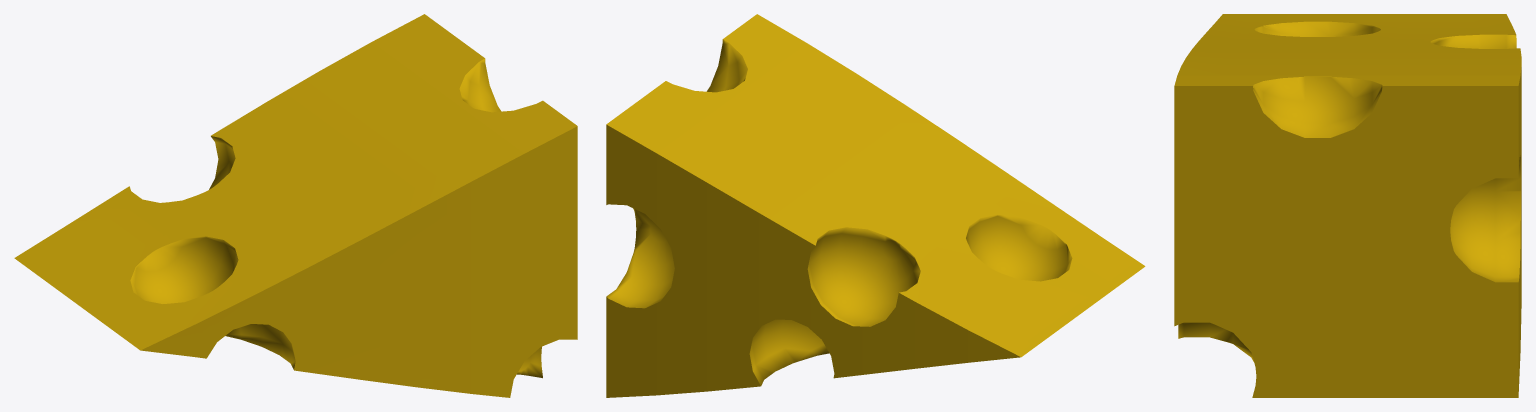
Rendered from cheese_1.fbx.
3 renders of one model, left to right at view 1: azimuth 30°, elevation 25°; view 2: azimuth 150°, elevation 25°; view 3: azimuth 270°, elevation 25°, orthographic. The views are drawn at different scales.
Parts seen in each view (by area): view 1: Cube.002; view 2: Cube.002; view 3: Cube.002.
Boxes of the visible parts, x1=… form: Cube.002: x1=14, y1=14, x2=577, y2=397; Cube.002: x1=606, y1=14, x2=1145, y2=397; Cube.002: x1=1174, y1=14, x2=1521, y2=397.
Size of the model in its own units: 5066 by 3231 by 3260.
